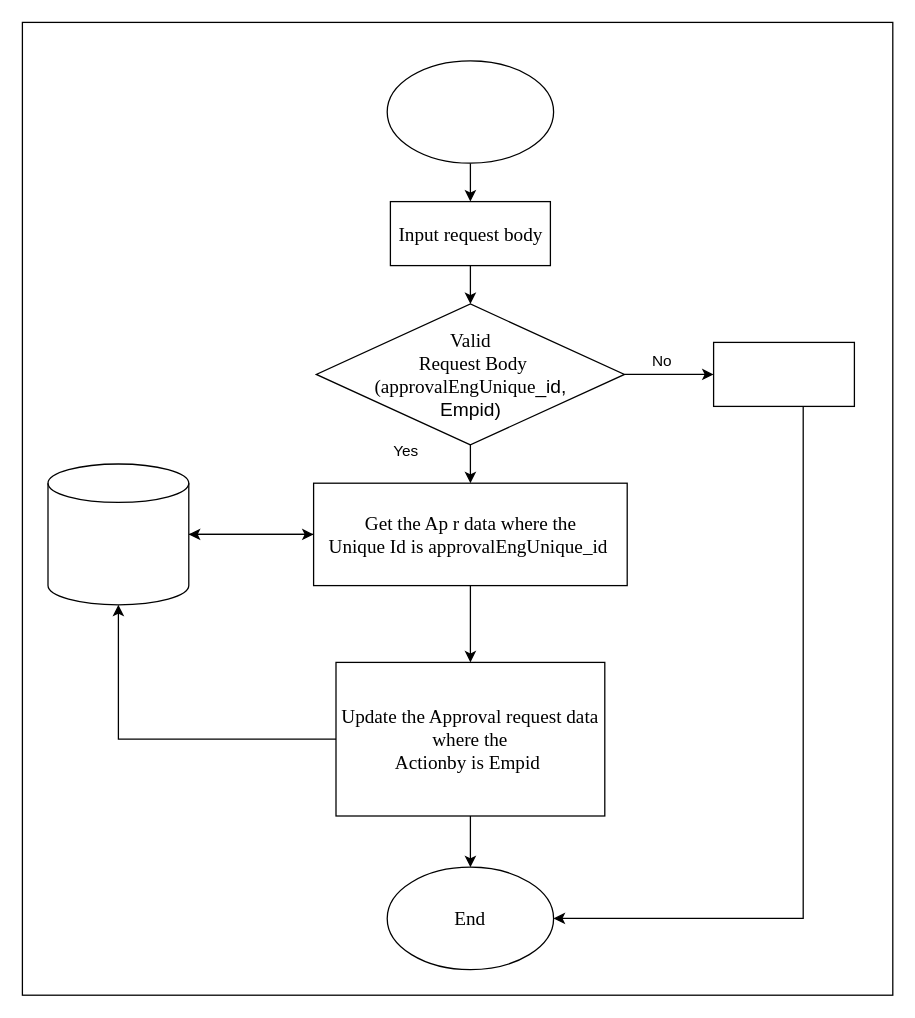
The diagram is 915 pixels wide and 1018 high, and some of its shapes have lost their labels. The shapes that lost their labels are listed below. From the top down, each one's centre as x and y in pixels, then its label:
At point (470, 111): "Start".
At point (783, 373): "Return".
At point (118, 534): "Data Base".
